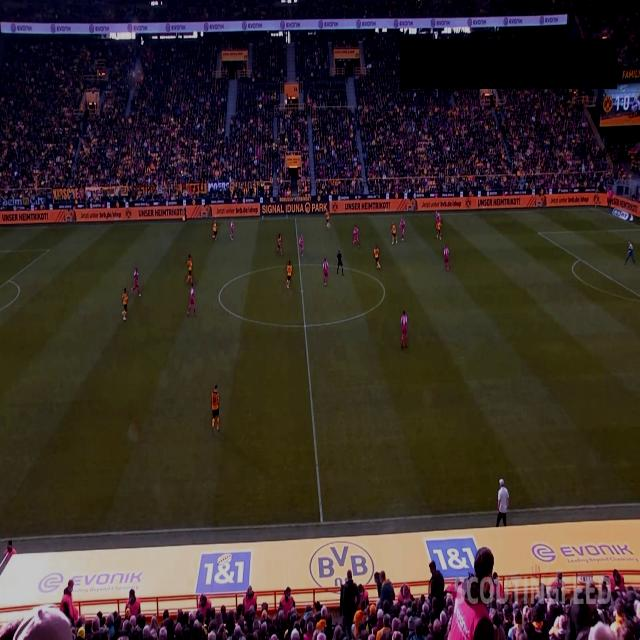ball: (324, 221, 332, 231)
f_player: (206, 378, 227, 442), (118, 286, 132, 338), (184, 281, 200, 320), (130, 267, 146, 302), (397, 304, 409, 350), (369, 242, 384, 276), (319, 254, 331, 291), (284, 258, 296, 294), (184, 253, 196, 285), (442, 245, 454, 275), (350, 225, 362, 252), (296, 234, 308, 260), (227, 215, 236, 249), (389, 218, 399, 246), (210, 215, 219, 245), (434, 218, 444, 244), (322, 210, 333, 233), (434, 208, 444, 231), (400, 216, 408, 243), (274, 231, 282, 255)
umpire: (334, 247, 346, 278)
